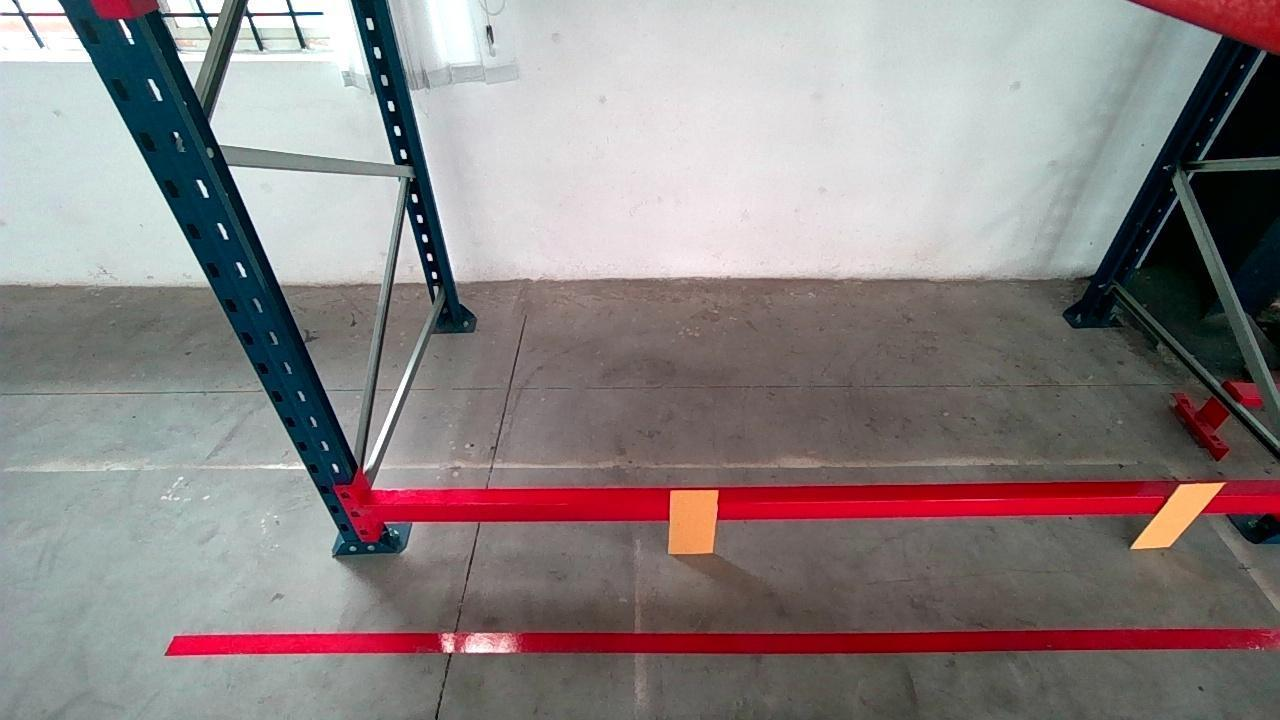h_rack: (373, 476, 1273, 525)
orange_strip: (1135, 480, 1222, 547), (669, 488, 720, 552)
red_line: (164, 627, 1274, 659)
